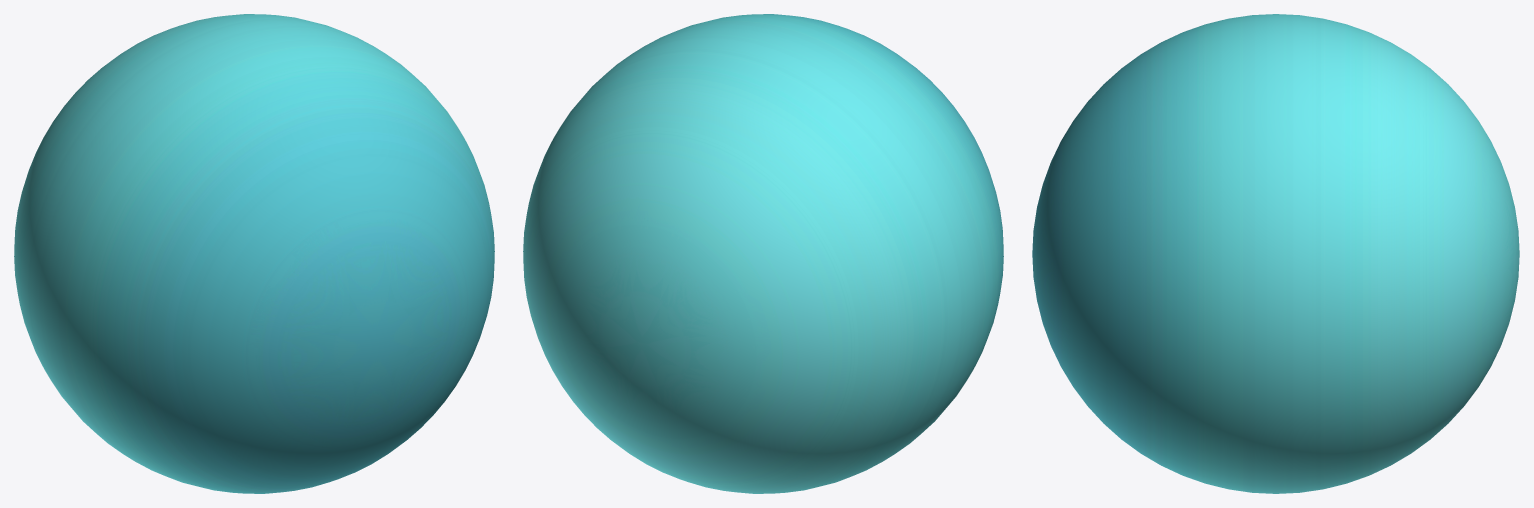
Rendered from uranus_clouds.obj.
3 renders of one model, left to right at view 1: azimuth 30°, elevation 25°; view 2: azimuth 150°, elevation 25°; view 3: azimuth 270°, elevation 25°, orthographic.
Visible parts, largest first — view 1: Uranus_clouds; view 2: Uranus_clouds; view 3: Uranus_clouds.
Part boxes in pixels (x1,y1,x2,y2): Uranus_clouds: (14, 14, 494, 493); Uranus_clouds: (523, 14, 1003, 493); Uranus_clouds: (1032, 14, 1519, 493).
Bounding box in the file's own units: 89484 × 89484 × 90773.
1 material, 1 textured.
